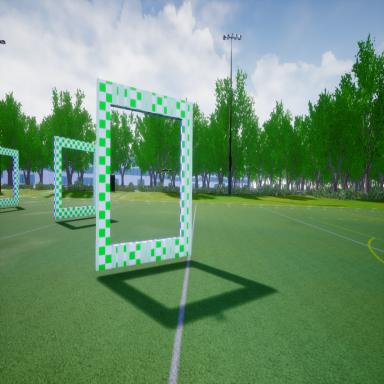gate: (91, 71, 194, 284)
